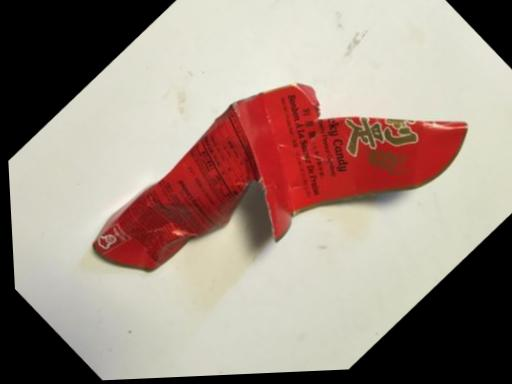paper: (38, 0, 511, 379)
